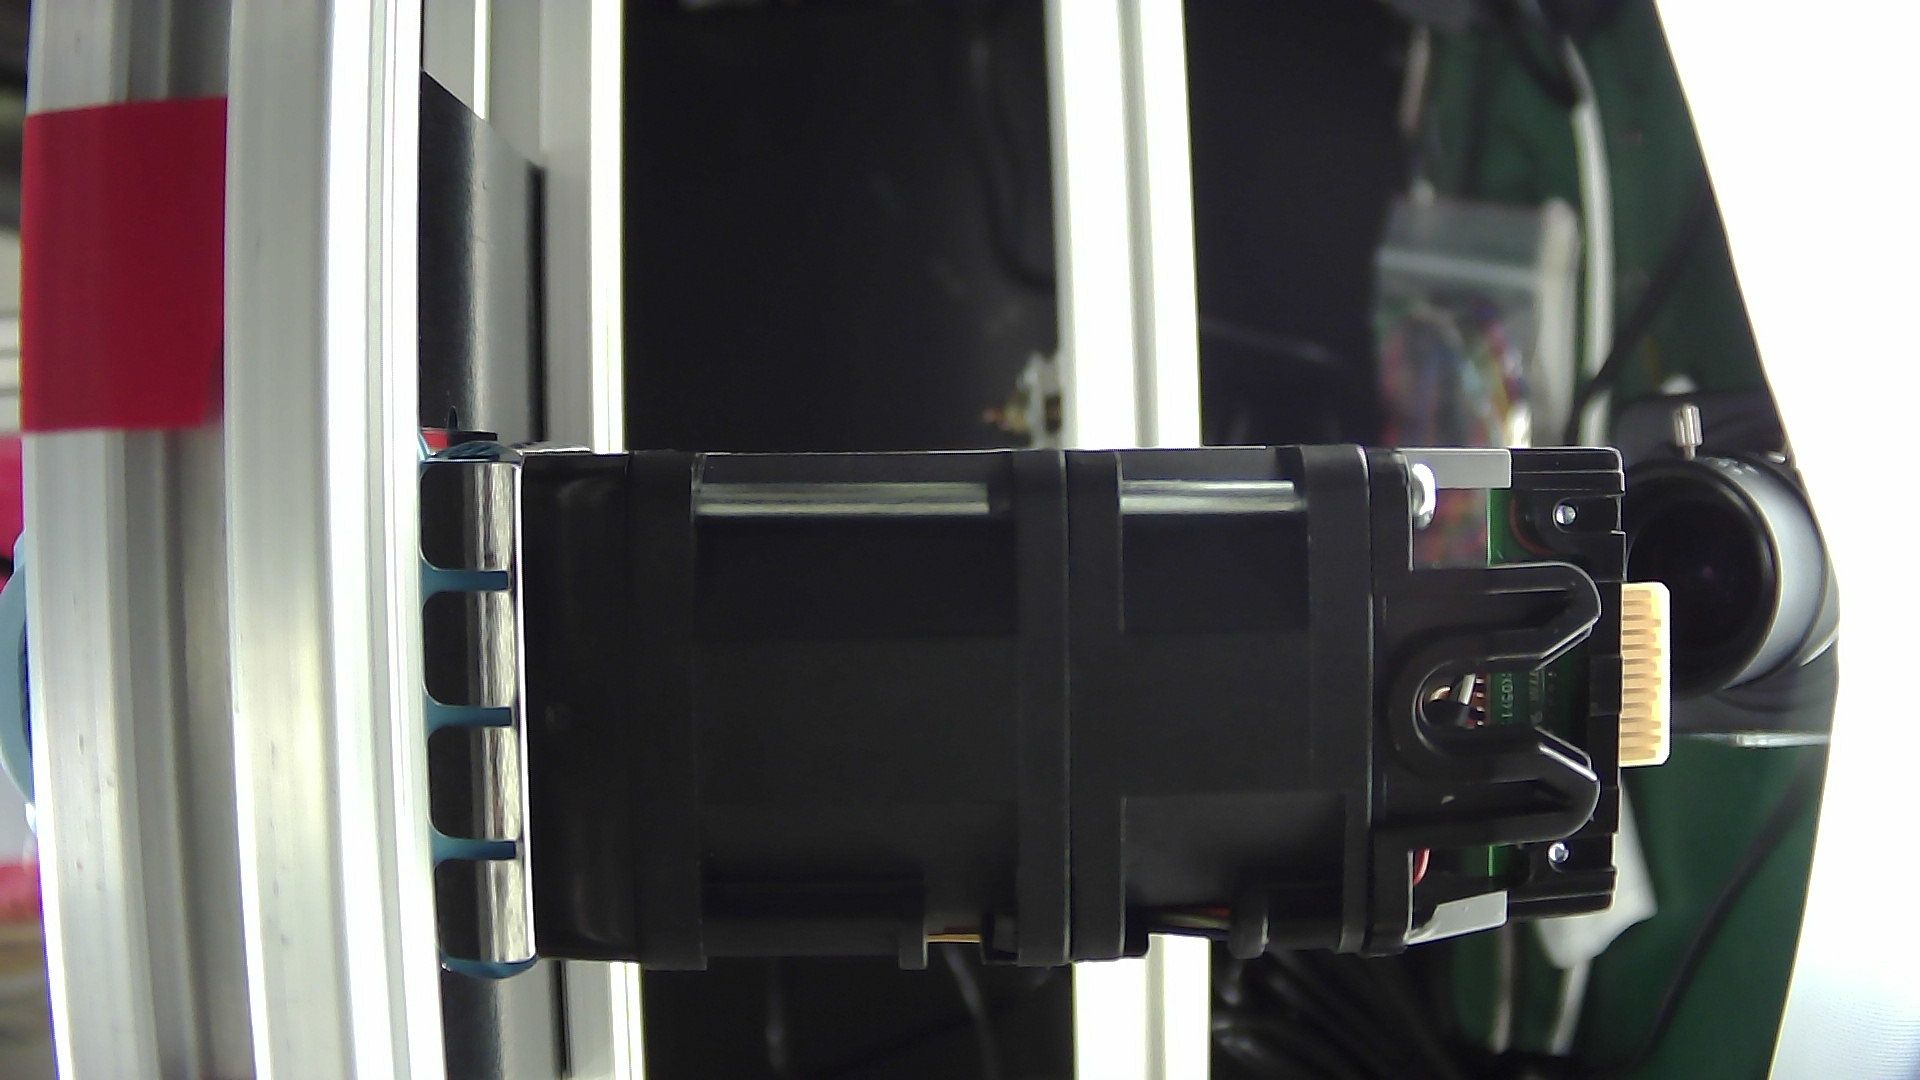4_0: (367, 369, 1688, 996)
